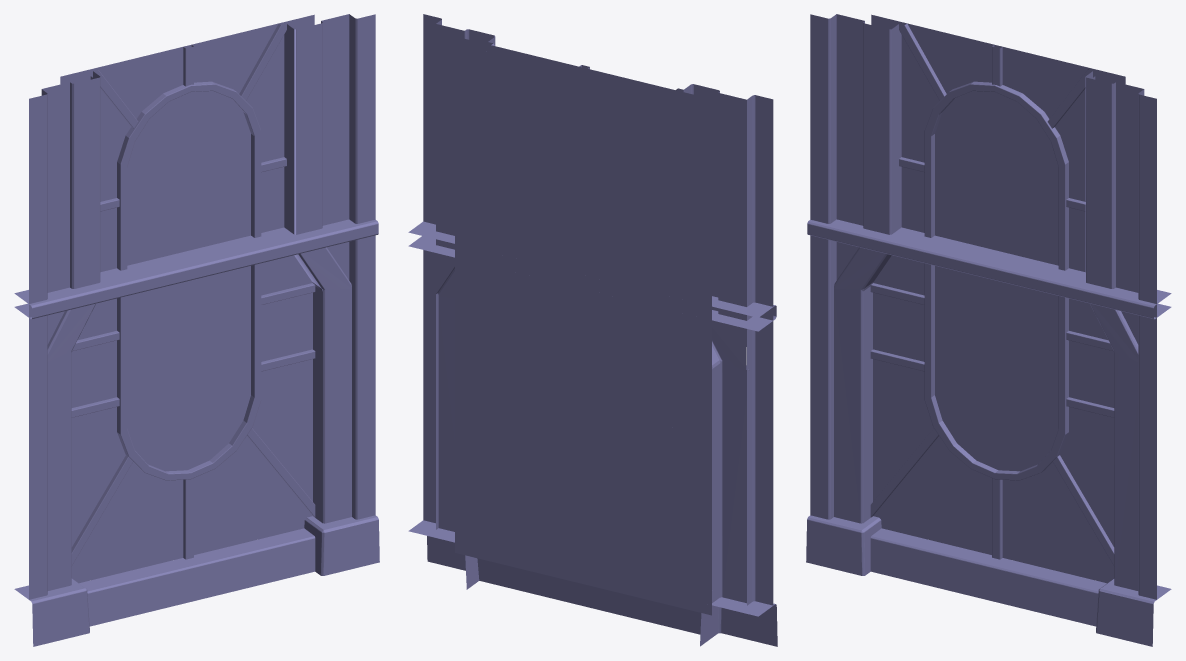
File: M_A_window_01.fbx
The picture shows the model from 3 angles, left to right: view 1: azimuth 30°, elevation 25°; view 2: azimuth 150°, elevation 25°; view 3: azimuth 330°, elevation 25°; orthographic projection.
Visible parts, largest first — view 1: M_A_window_01; view 2: M_A_window_01; view 3: M_A_window_01.
Part boxes in pixels (x1,y1,x2,y2): M_A_window_01: (14, 14, 379, 646); M_A_window_01: (408, 14, 777, 646); M_A_window_01: (806, 14, 1171, 646).
Bounding box in the file's own units: 400 × 601 × 38.18.
